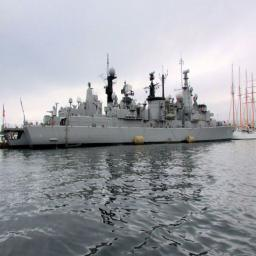Fragata: (24, 51, 238, 147)
